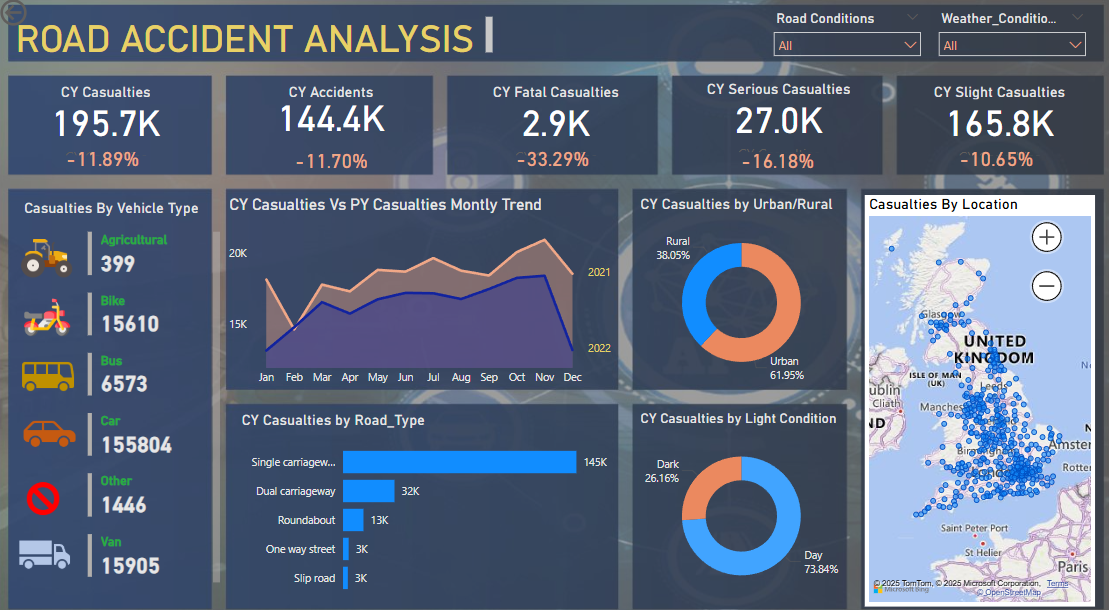

The dashboard page shown, as its layout file describes it:
{"tool":"powerbi","page":{"name":"Page 1","canvas":[1280,720],"ordinal":0},"visuals":[{"type":"actionButton","box":[0,0,100,40],"z":0},{"type":"card","title":"CY Serious Casualties","fields":{"Values":["Data.CY Casualties"]},"box":[787.5,97.5,215,87.5],"z":0,"group":"g4"},{"type":"card","title":"CY Casualties","fields":{"Values":["Data.CY Casualties"]},"box":[17.9,100,214.1,87.8],"z":0,"group":"g1"},{"type":"card","title":"CY Fatal Casualties","fields":{"Values":["Data.CY Casualties"]},"box":[532.5,100,214.1,87.8],"z":0,"group":"g2"},{"type":"card","title":"CY Slight Casualties","fields":{"Values":["Data.CY Casualties"]},"box":[1040,100,214.1,87.8],"z":0,"group":"g3"},{"type":"card","title":"CY Accidents","fields":{"Values":["Data.cy accidents counts"]},"box":[276.2,100,214.3,76.2],"z":1000},{"type":"card","fields":{"Values":["Data.YOy"]},"box":[59,167.7,123.8,40.5],"z":1000,"group":"g1"},{"type":"card","fields":{"Values":["Data.YOy"]},"box":[573.6,167.7,123.8,40.5],"z":1000,"group":"g2"},{"type":"card","fields":{"Values":["Data.YOy"]},"box":[1081.1,167.7,123.8,40.5],"z":1000,"group":"g3"},{"type":"card","fields":{"Values":["Data.YOy"]},"box":[831.1,168.3,123.8,40.5],"z":1000,"group":"g4"},{"type":"group","id":"g1","title":"Group 1","box":[17.9,100,214.3,108.3],"z":2000},{"type":"card","fields":{"Values":["Data.YOY accidents"]},"box":[321.4,167.9,123.8,40.5],"z":3000},{"type":"group","id":"g2","title":"Group 1","box":[532.5,100,215,107.5],"z":4000},{"type":"group","id":"g3","title":"Group 1","box":[1040,100,215,107.5],"z":5000},{"type":"group","id":"g4","title":"Group 1","box":[787.5,97.5,215,110],"z":6000},{"type":"textbox","box":[17.8,20,555.6,54.4],"z":7000},{"type":"multiRowCard","fields":{"Values":["Data.Vehicle_Type (groups)","Data.CY Casualties"]},"box":[100,265.6,161.1,422.2],"z":8000},{"type":"image","box":[20,464.4,82.2,74.4],"z":9000},{"type":"image","box":[20,336.7,76.7,62.2],"z":10000},{"type":"image","box":[17.8,264.4,82.2,72.2],"z":11000},{"type":"image","box":[12.2,398.9,93.3,74.4],"z":12000},{"type":"image","box":[8.9,546.7,91.1,56.7],"z":13000},{"type":"image","box":[5.6,603.3,100,73.3],"z":14000},{"type":"textbox","box":[27.8,228.9,233.3,35.6],"z":15000},{"type":"areaChart","title":"CY Casualties Vs PY Casualties Montly Trend","fields":{"Category":["calendar.Month"],"Y":["Sum(Data.Number_of_Casualties)"],"Series":["calendar.Date.Variation.Date Hierarchy.Year"]},"box":[261.1,228.9,448.9,226.7],"z":16000},{"type":"donutChart","title":"CY Casualties by Urban/Rural","fields":{"Category":["Data.Urban_or_Rural_Area"],"Y":["Data.CY Casualties"]},"box":[731.1,228.9,241.1,226.7],"z":17000},{"type":"donutChart","title":"CY Casualties by Light Condition","fields":{"Category":["Data.Light_Conditions (groups)"],"Y":["Data.CY Casualties"]},"box":[731.2,473.8,241.2,225],"z":18000},{"type":"barChart","fields":{"Y":["Data.CY Casualties"],"Category":["Data.Road_Type"]},"box":[276.2,476.2,433.8,222.5],"z":19000},{"type":"map","title":"Casualties By Location","fields":{"X":["Data.Longitude"],"Y":["Data.Latitude"],"Category":["Data.Local_Authority_(District)"]},"box":[992.9,228.6,262.9,470],"z":20000},{"type":"slicer","fields":{"Values":["Data.Weather_Conditions"]},"box":[1067.1,12.9,188.6,61.4],"z":20001},{"type":"slicer","fields":{"Values":["Data.Road_Surface_Conditions (groups)"]},"box":[878.6,12.9,188.6,61.4],"z":20002}]}

Visuals, with their boxes in screenshot pixels (x1, y1, x2, y2), scaled from the page's 1280x720 canvas onto the 1109x610 screenshot:
actionButton: (x1=0, y1=0, x2=87, y2=34)
"CY Serious Casualties" card: (x1=682, y1=83, x2=869, y2=157)
"CY Casualties" card: (x1=16, y1=85, x2=201, y2=159)
"CY Fatal Casualties" card: (x1=461, y1=85, x2=647, y2=159)
"CY Slight Casualties" card: (x1=901, y1=85, x2=1087, y2=159)
"CY Accidents" card: (x1=239, y1=85, x2=425, y2=149)
card - Data.YOy: (x1=51, y1=142, x2=158, y2=176)
card - Data.YOy: (x1=497, y1=142, x2=604, y2=176)
card - Data.YOy: (x1=937, y1=142, x2=1044, y2=176)
card - Data.YOy: (x1=720, y1=143, x2=827, y2=177)
"Group 1" group: (x1=16, y1=85, x2=201, y2=176)
card - Data.YOY accidents: (x1=278, y1=142, x2=386, y2=177)
"Group 1" group: (x1=461, y1=85, x2=648, y2=176)
"Group 1" group: (x1=901, y1=85, x2=1087, y2=176)
"Group 1" group: (x1=682, y1=83, x2=869, y2=176)
textbox: (x1=15, y1=17, x2=497, y2=63)
multiRowCard - Data.Vehicle_Type (groups) x Data.CY Casualties: (x1=87, y1=225, x2=226, y2=583)
image: (x1=17, y1=393, x2=89, y2=456)
image: (x1=17, y1=285, x2=84, y2=338)
image: (x1=15, y1=224, x2=87, y2=285)
image: (x1=11, y1=338, x2=91, y2=401)
image: (x1=8, y1=463, x2=87, y2=511)
image: (x1=5, y1=511, x2=91, y2=573)
textbox: (x1=24, y1=194, x2=226, y2=224)
"CY Casualties Vs PY Casualties Montly Trend" areaChart: (x1=226, y1=194, x2=615, y2=386)
"CY Casualties by Urban/Rural" donutChart: (x1=633, y1=194, x2=842, y2=386)
"CY Casualties by Light Condition" donutChart: (x1=634, y1=401, x2=842, y2=592)
barChart - Data.CY Casualties x Data.Road_Type: (x1=239, y1=403, x2=615, y2=592)
"Casualties By Location" map: (x1=860, y1=194, x2=1088, y2=592)
slicer - Data.Weather_Conditions: (x1=925, y1=11, x2=1088, y2=63)
slicer - Data.Road_Surface_Conditions (groups): (x1=761, y1=11, x2=925, y2=63)
